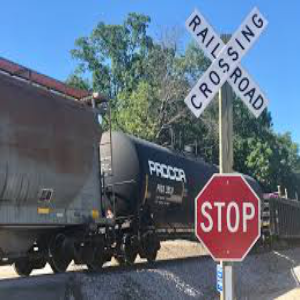STOP_SIGN: (194, 172, 261, 261)
